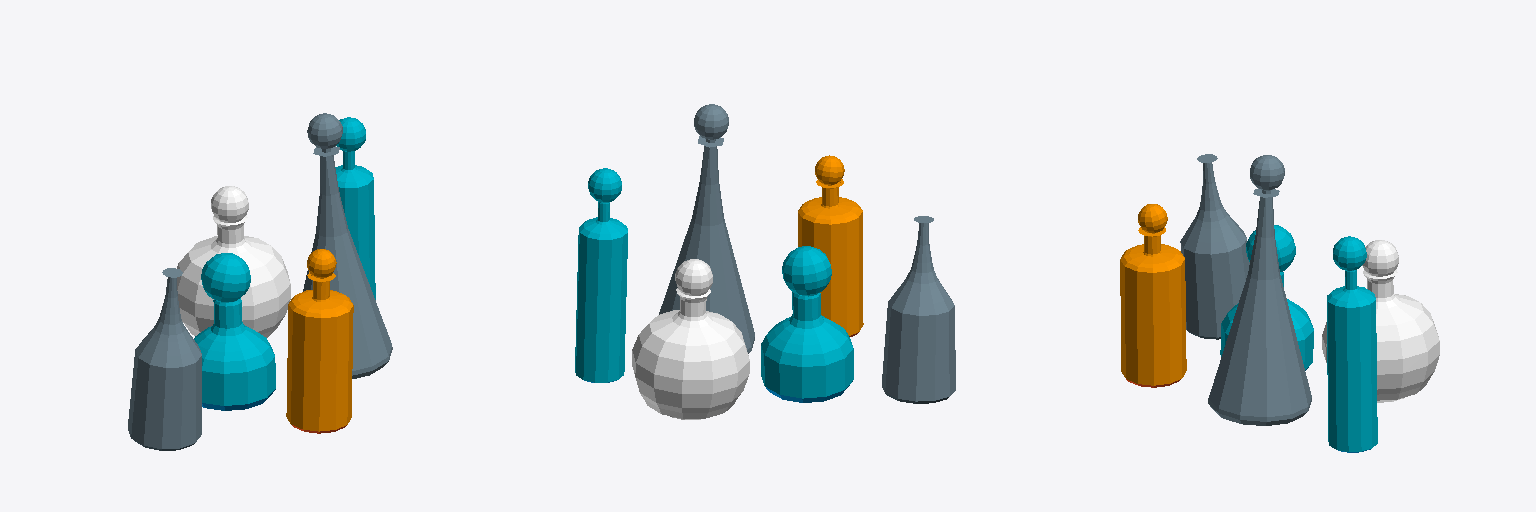
Rendered from vases.obj.
3 renders of one model, left to right at view 1: azimuth 30°, elevation 25°; view 2: azimuth 150°, elevation 25°; view 3: azimuth 270°, elevation 25°, orthographic.
Visible parts, largest first — view 1: model; view 2: model; view 3: model.
Part boxes in pixels (x1,y1,x2,y2): model: (128, 113, 392, 450); model: (575, 104, 955, 419); model: (1120, 154, 1439, 452).
Bounding box in the file's own units: 0.8202 × 0.6666 × 0.7414.